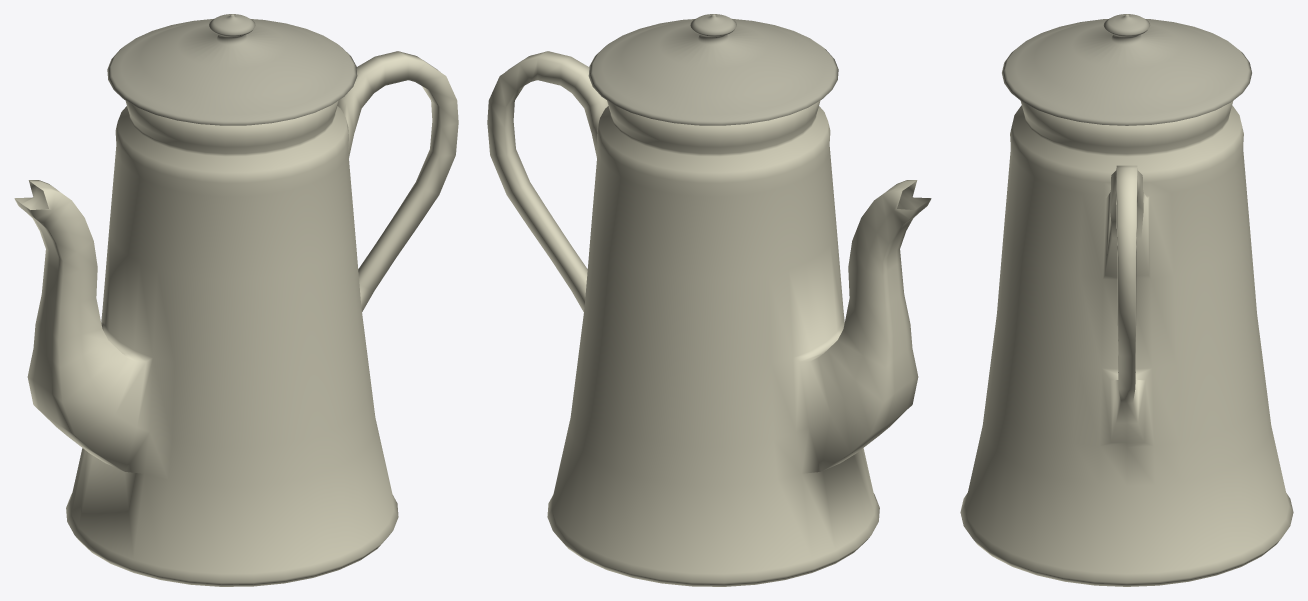
File: teapot.glb
The picture shows the model from 3 angles, left to right: view 1: azimuth 30°, elevation 25°; view 2: azimuth 150°, elevation 25°; view 3: azimuth 270°, elevation 25°; orthographic projection.
Visible parts, largest first — view 1: Teapot, Lid; view 2: Teapot, Lid; view 3: Teapot, Lid.
Part boxes in pixels (<box>): Teapot: <box>14,51,458,586</box>; Lid: <box>107,14,357,125</box>; Teapot: <box>487,51,931,586</box>; Lid: <box>588,14,838,125</box>; Teapot: <box>960,101,1293,586</box>; Lid: <box>1002,14,1251,125</box>.
Size of the model in its own units: 3.7 by 4.12 by 2.46.
